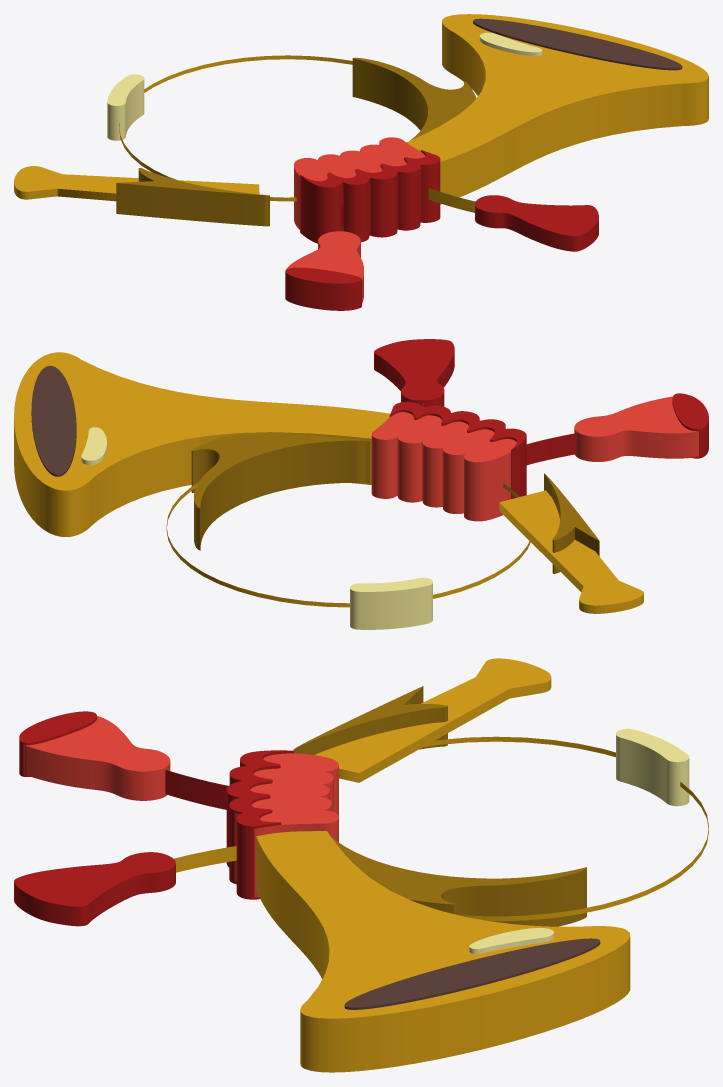
File: emoji_u1f4ef.glb
The picture shows the model from 3 angles, top to bottom: view 1: azimuth 30°, elevation 25°; view 2: azimuth 150°, elevation 25°; view 3: azimuth 270°, elevation 25°; orthographic projection. The views are drawn at different scales.
Visible parts, largest first — view 1: emoji_u1f4ef; view 2: emoji_u1f4ef; view 3: emoji_u1f4ef.
Boxes of the visible parts, left/top/right/bottom form: emoji_u1f4ef: left=14, top=14, right=708, bottom=310; emoji_u1f4ef: left=14, top=339, right=708, bottom=629; emoji_u1f4ef: left=14, top=658, right=708, bottom=1072.
Size of the model in its own units: 0.0335 by 0.003 by 0.0257.
